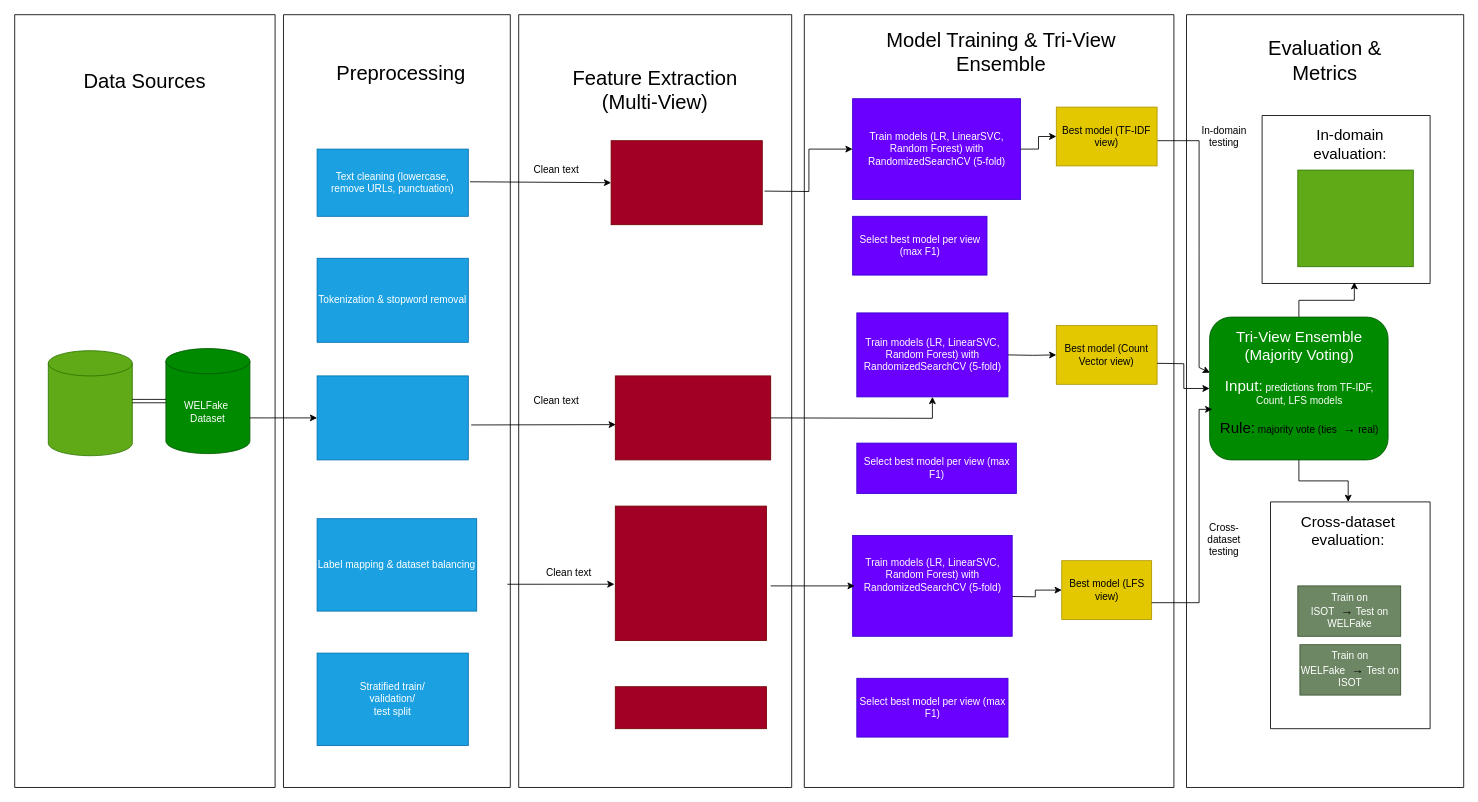
Image size: 1478x802. Some labels were removed from this diagram. The centre of each missing label's shape, as x and y in pixels:
"Count Vectorization (Bag-of-Words, 1–2 grams)" belongs at pixel 692 417.
"ISOT Dataset (True.csv, Fake.csv)" belongs at pixel 89 403.
"Lemmatization (optional)" belongs at pixel 392 417.
"Linguistic Features (readability, punctuation, sentiment, structure)" belongs at pixel 690 572.
"Standardization / Scaling" belongs at pixel 690 707.
"TF-IDF Vectorization (1–2 grams, max_features=50k)" belongs at pixel 686 182.
"Train + Test on same dataset (ISOT / WELFake) Accuracy, Precision, Recall, F1" belongs at pixel 1355 218.
